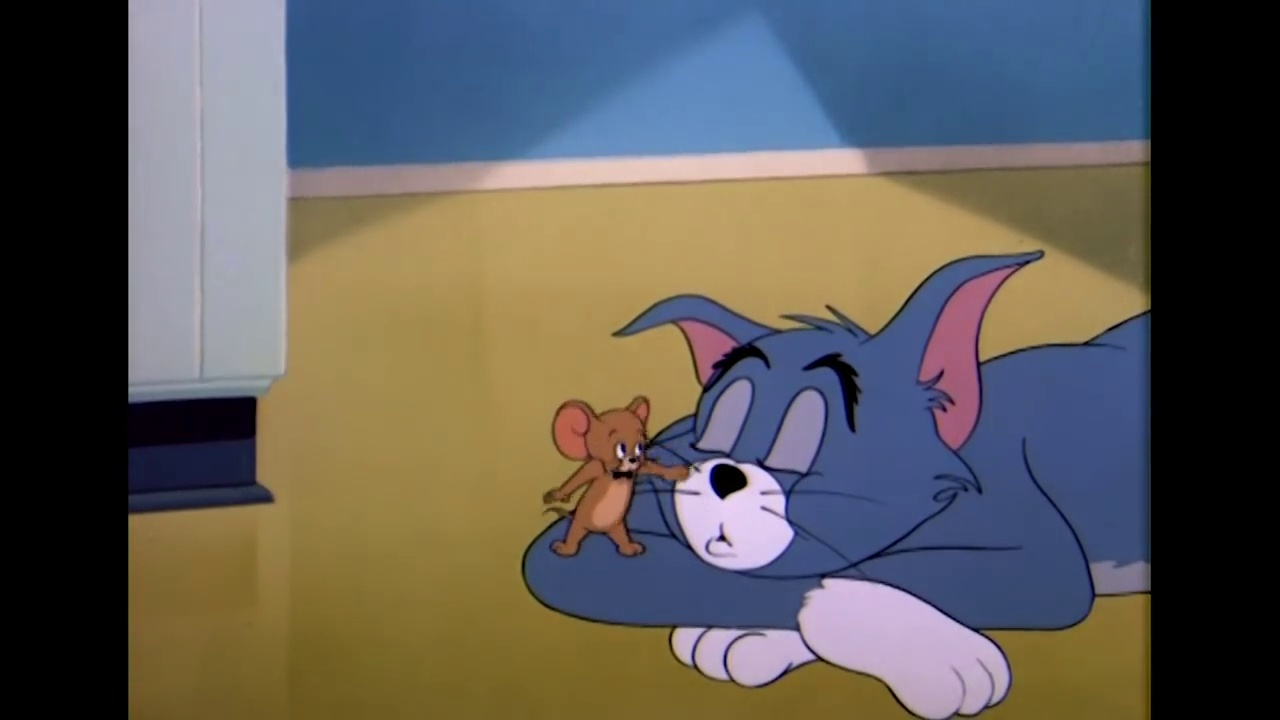tom: (610, 246, 1048, 587)
